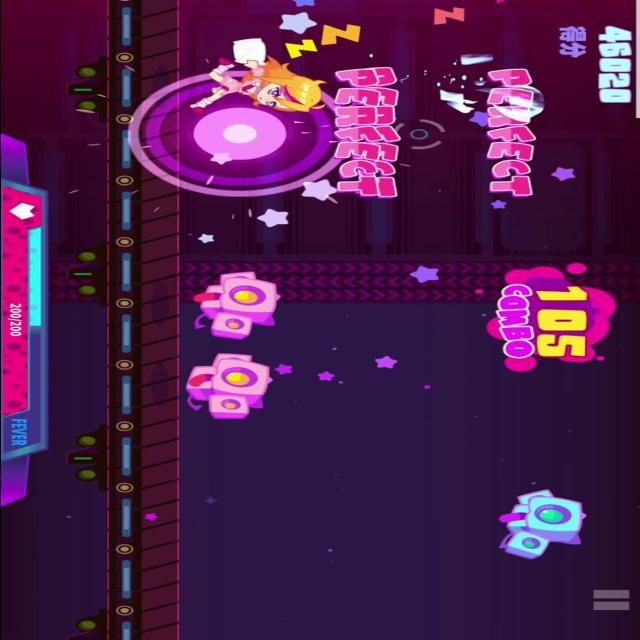jiqi: (188, 266, 290, 341), (494, 487, 586, 560), (179, 353, 273, 422)
